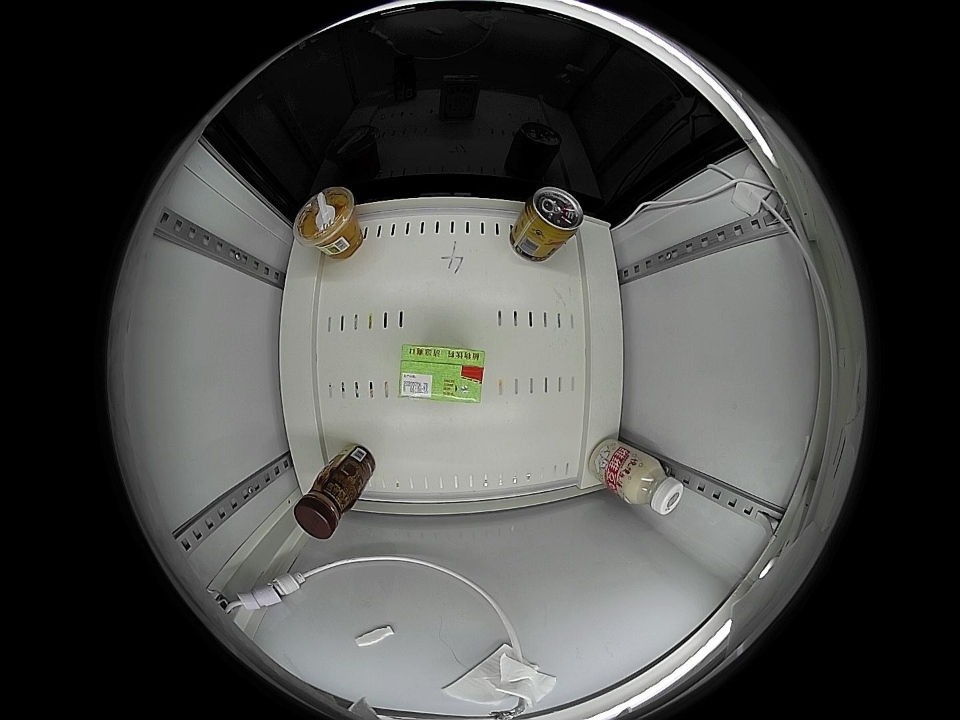hongniu2: (520, 186, 584, 244)
lujikafei: (294, 471, 360, 539)
wanglaoji: (398, 345, 486, 403)
weiweidounai: (622, 456, 685, 515)
xianguolao: (294, 188, 359, 253)
